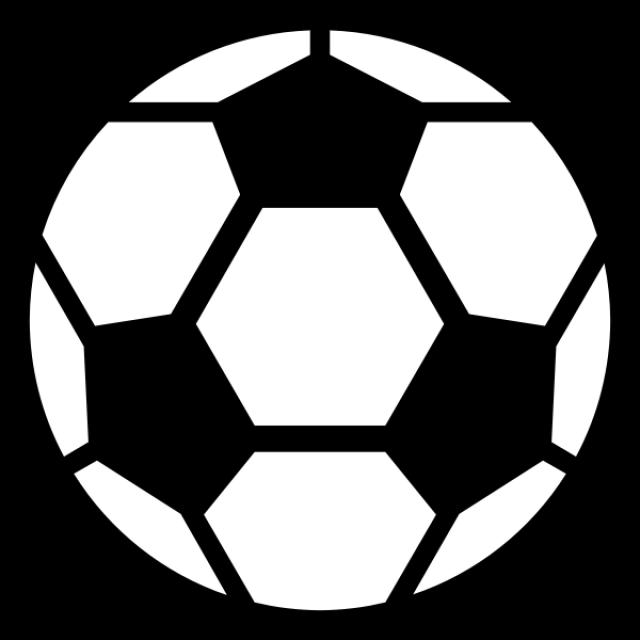soccer ball: (11, 7, 638, 640)
